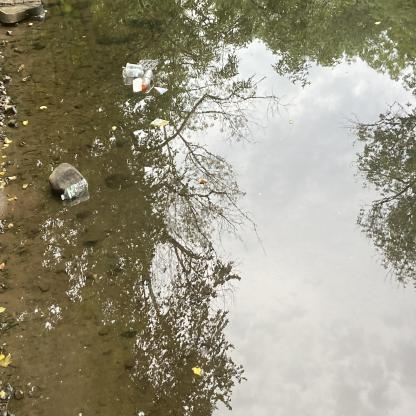trash: (60, 176, 90, 202), (136, 58, 160, 74), (140, 67, 154, 90), (121, 61, 144, 73), (122, 67, 146, 78), (148, 118, 172, 128), (152, 86, 170, 98), (132, 76, 144, 94)
